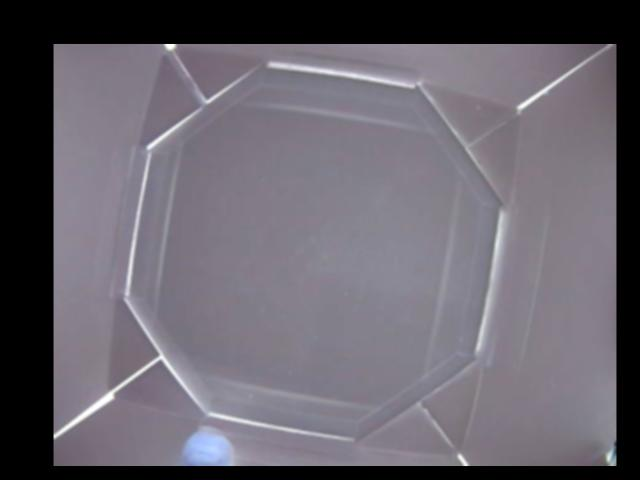Pebble: (181, 430, 234, 466)
